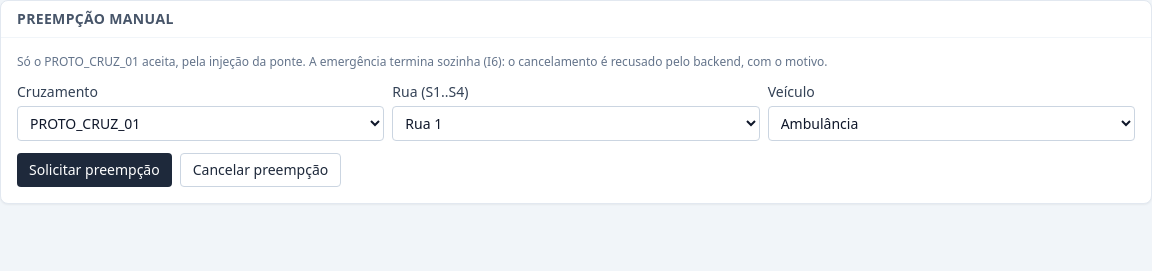
Test: PreempcaoManual › na bancada mostra a decisão do UNO e manda rua e veículo
Select "Rua 3" in the dropdown labelled "Rua (S1..S4)": (576, 124) [392,106,760,141]
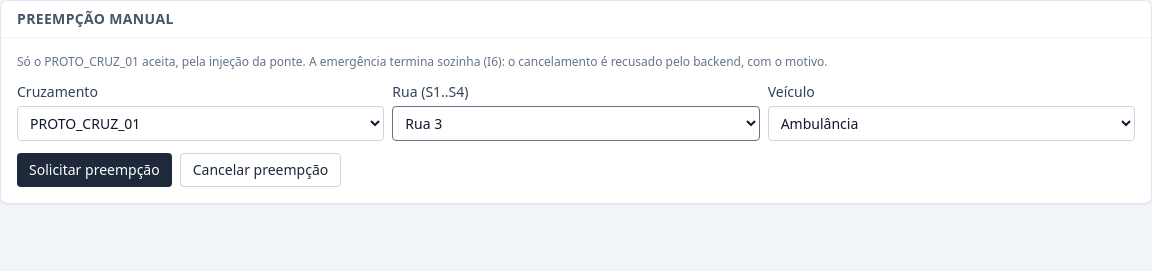
Select "Bombeiro" in the dropdown labelled "Veículo": (951, 124) [768,106,1135,141]
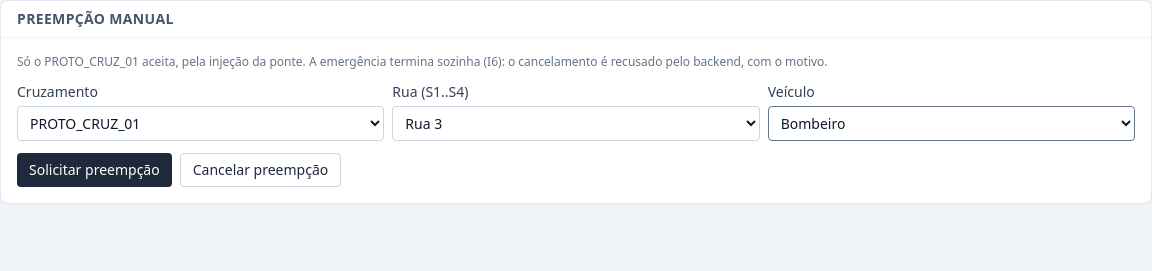
Click the button "Solicitar preempção": (94, 170) [17,153,172,187]
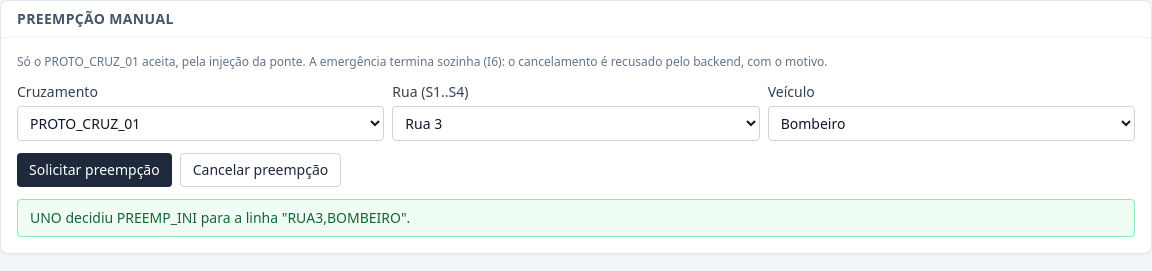
Now the text "UNO decidiu PREEMP_INI para a linha \"RUA3,BOMBEIRO\"." is shown, box [17,199,1135,237]
